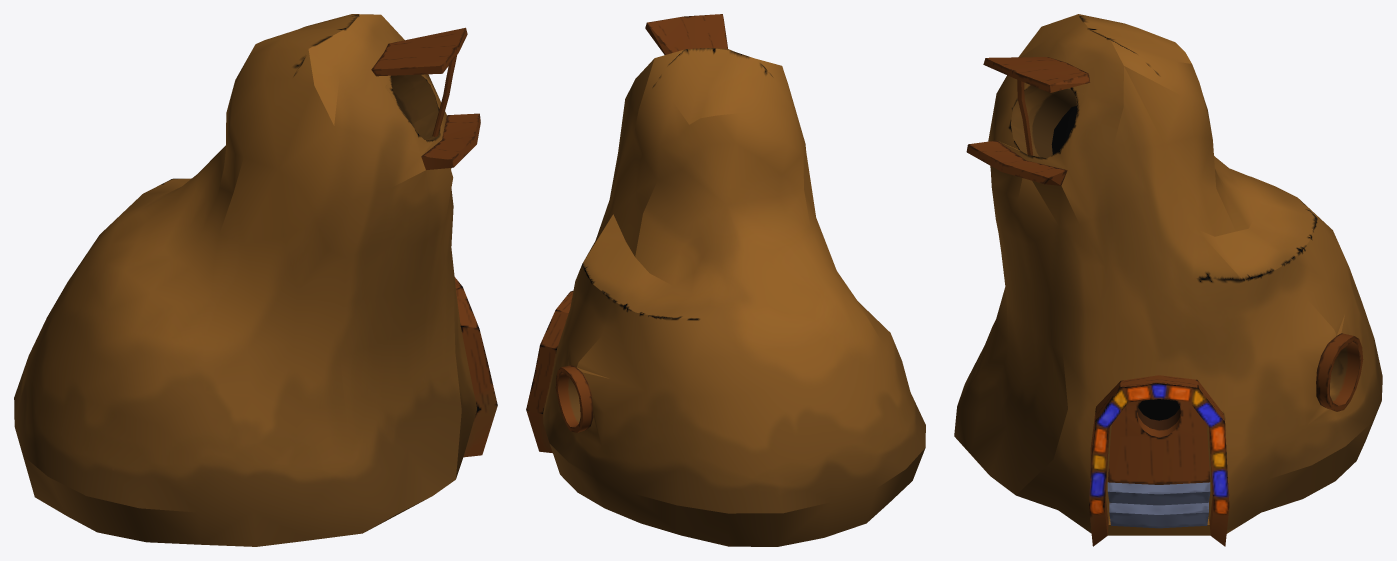
File: DungBurrow2.fbx
The picture shows the model from 3 angles, left to right: view 1: azimuth 30°, elevation 25°; view 2: azimuth 150°, elevation 25°; view 3: azimuth 270°, elevation 25°; orthographic projection. The views are drawn at different scales.
Visible parts, largest first — view 1: Sphere; view 2: Sphere; view 3: Sphere.
Part boxes in pixels (x1=…): Sphere: x1=14, y1=14, x2=497, y2=546; Sphere: x1=526, y1=14, x2=925, y2=546; Sphere: x1=954, y1=14, x2=1382, y2=546.
Bounding box in the file's own units: 768 × 846 × 895.
